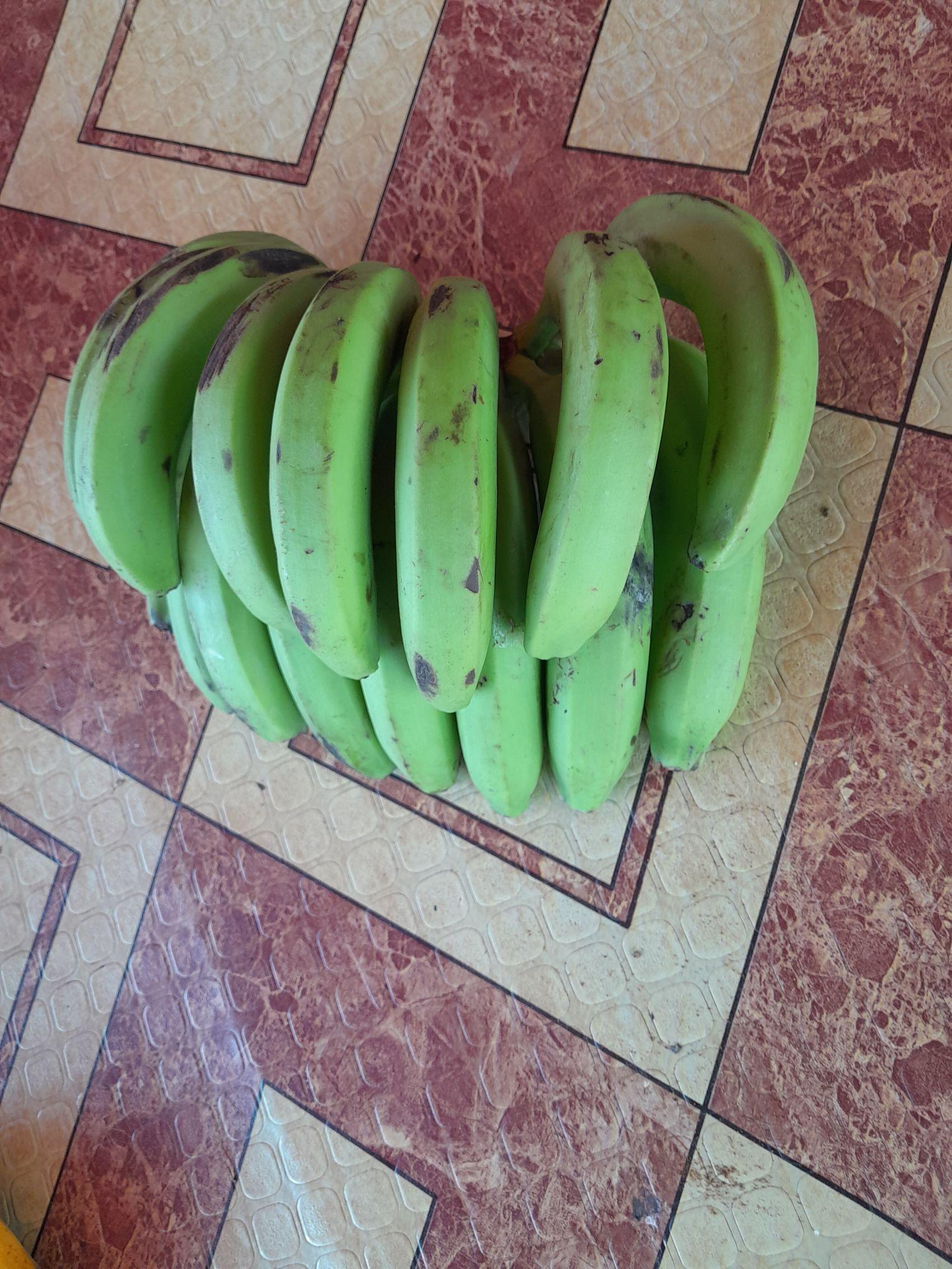Banana Unripe: (62, 231, 320, 597), (610, 193, 818, 570), (270, 263, 419, 679), (526, 233, 667, 659), (645, 337, 766, 771), (191, 268, 332, 627), (394, 278, 498, 711), (362, 367, 461, 793), (178, 468, 305, 741), (545, 511, 652, 810), (268, 625, 394, 778), (456, 634, 543, 815)
